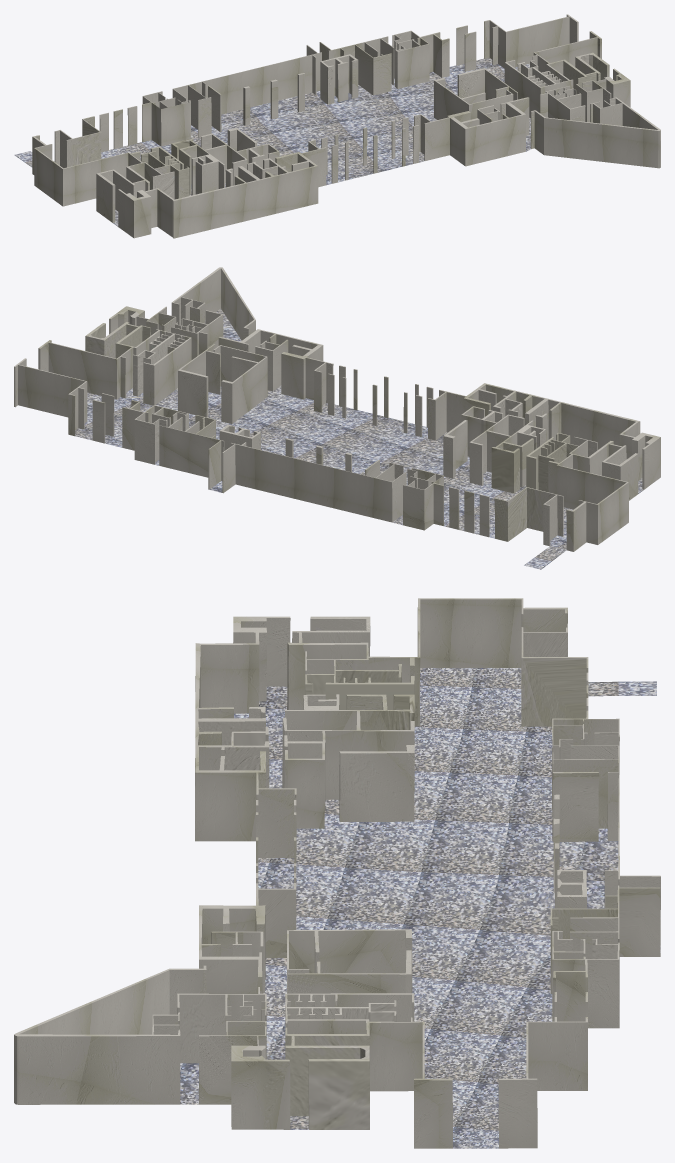
The model's file is kouryu1f.dae.
The picture shows the model from 3 angles, top to bottom: view 1: azimuth 30°, elevation 25°; view 2: azimuth 150°, elevation 25°; view 3: azimuth 270°, elevation 25°; orthographic projection. The views are drawn at different scales.
Parts seen in each view (by area): view 1: Curve_817; view 2: Curve_817; view 3: Curve_817.
Part boxes in pixels (<box>): Curve_817: <box>14,14,660,238</box>; Curve_817: <box>14,267,660,569</box>; Curve_817: <box>14,598,660,1148</box>.
Bounding box in the file's own units: 33.15 × 18.81 × 2.22.
Materials: 2 (2 with a texture image).
